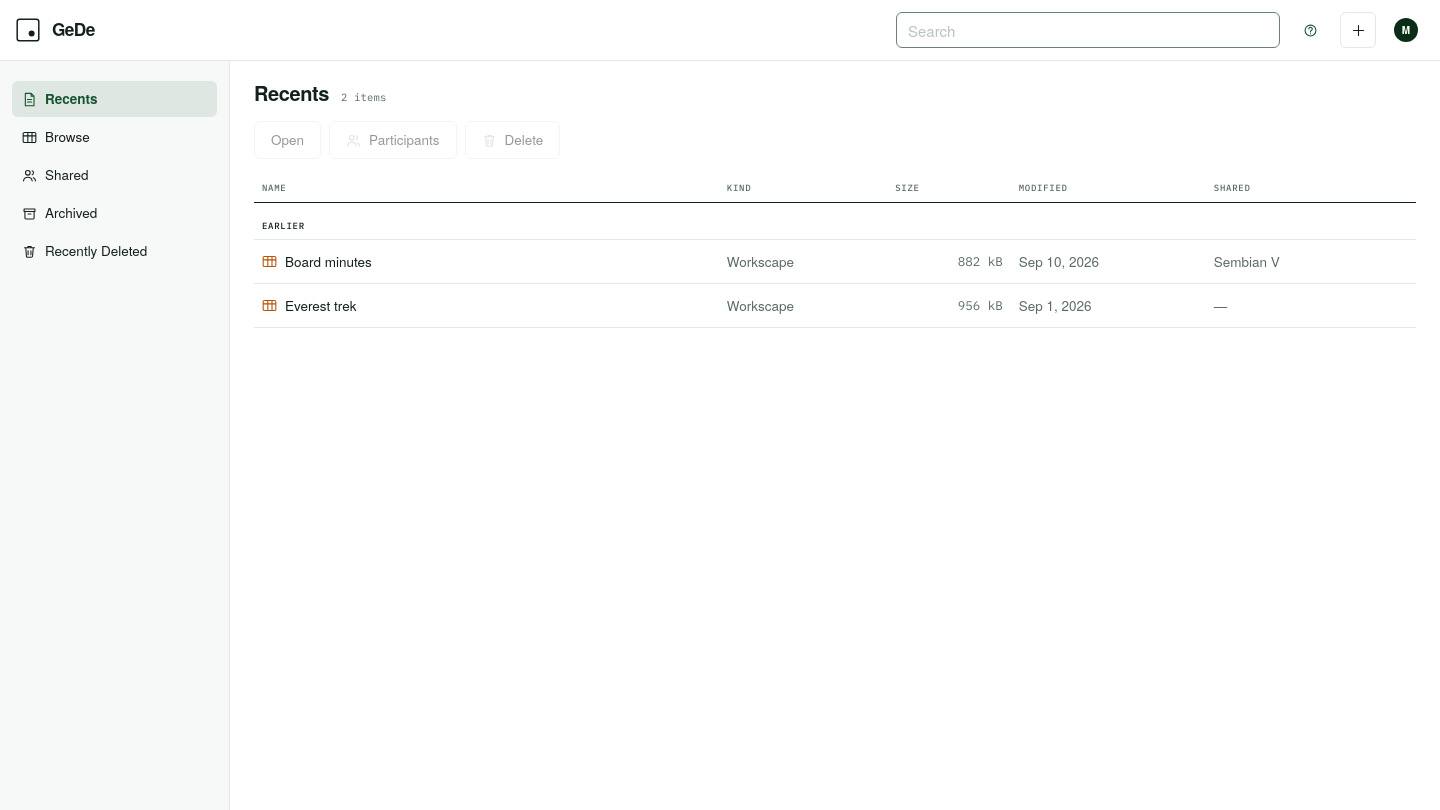
Test: Library › LIB-04 a search with no matches says "No workscapes match"
Expected: the text "Everest trek" is shown, [285,295,356,316]
Type "quarterly" into the search field named "Search workscapes" at (1088, 30), box [896,12,1280,48]
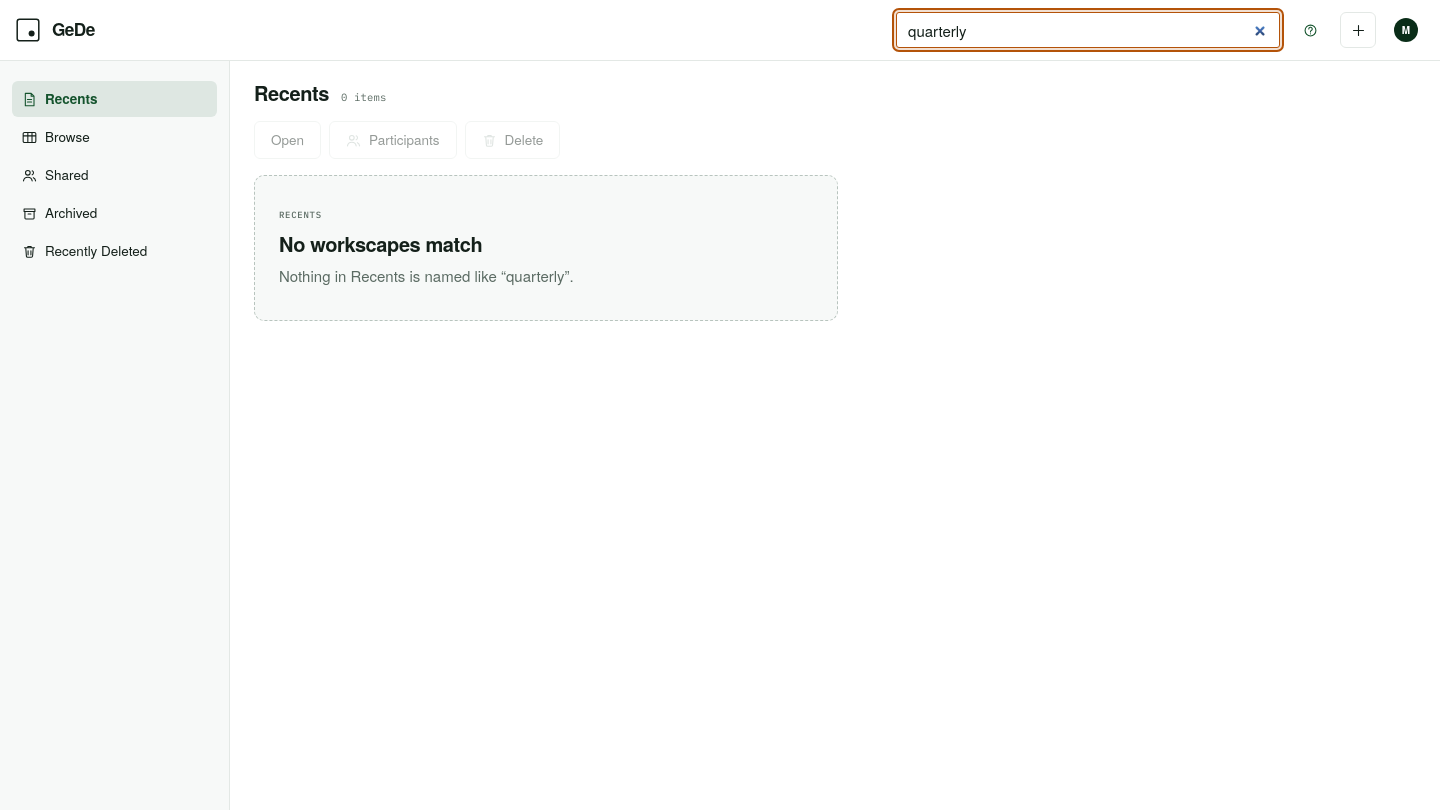
Expected: the heading "No workscapes match" is shown, [279,231,482,256]
